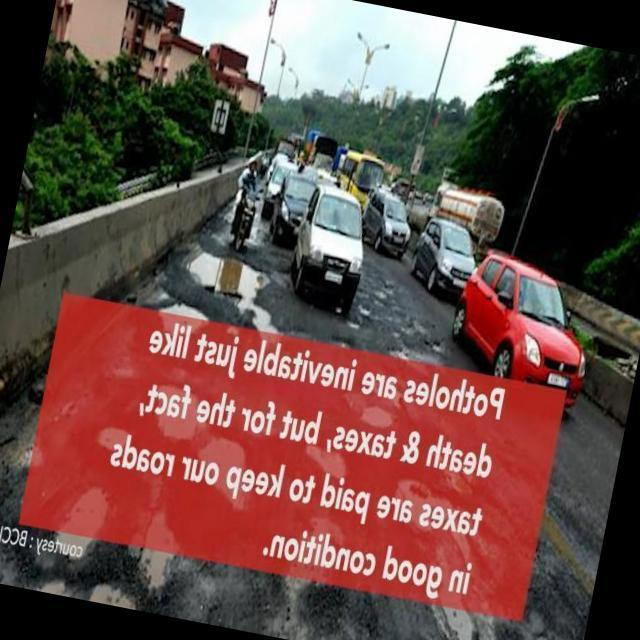Burst: (185, 247, 280, 331)
